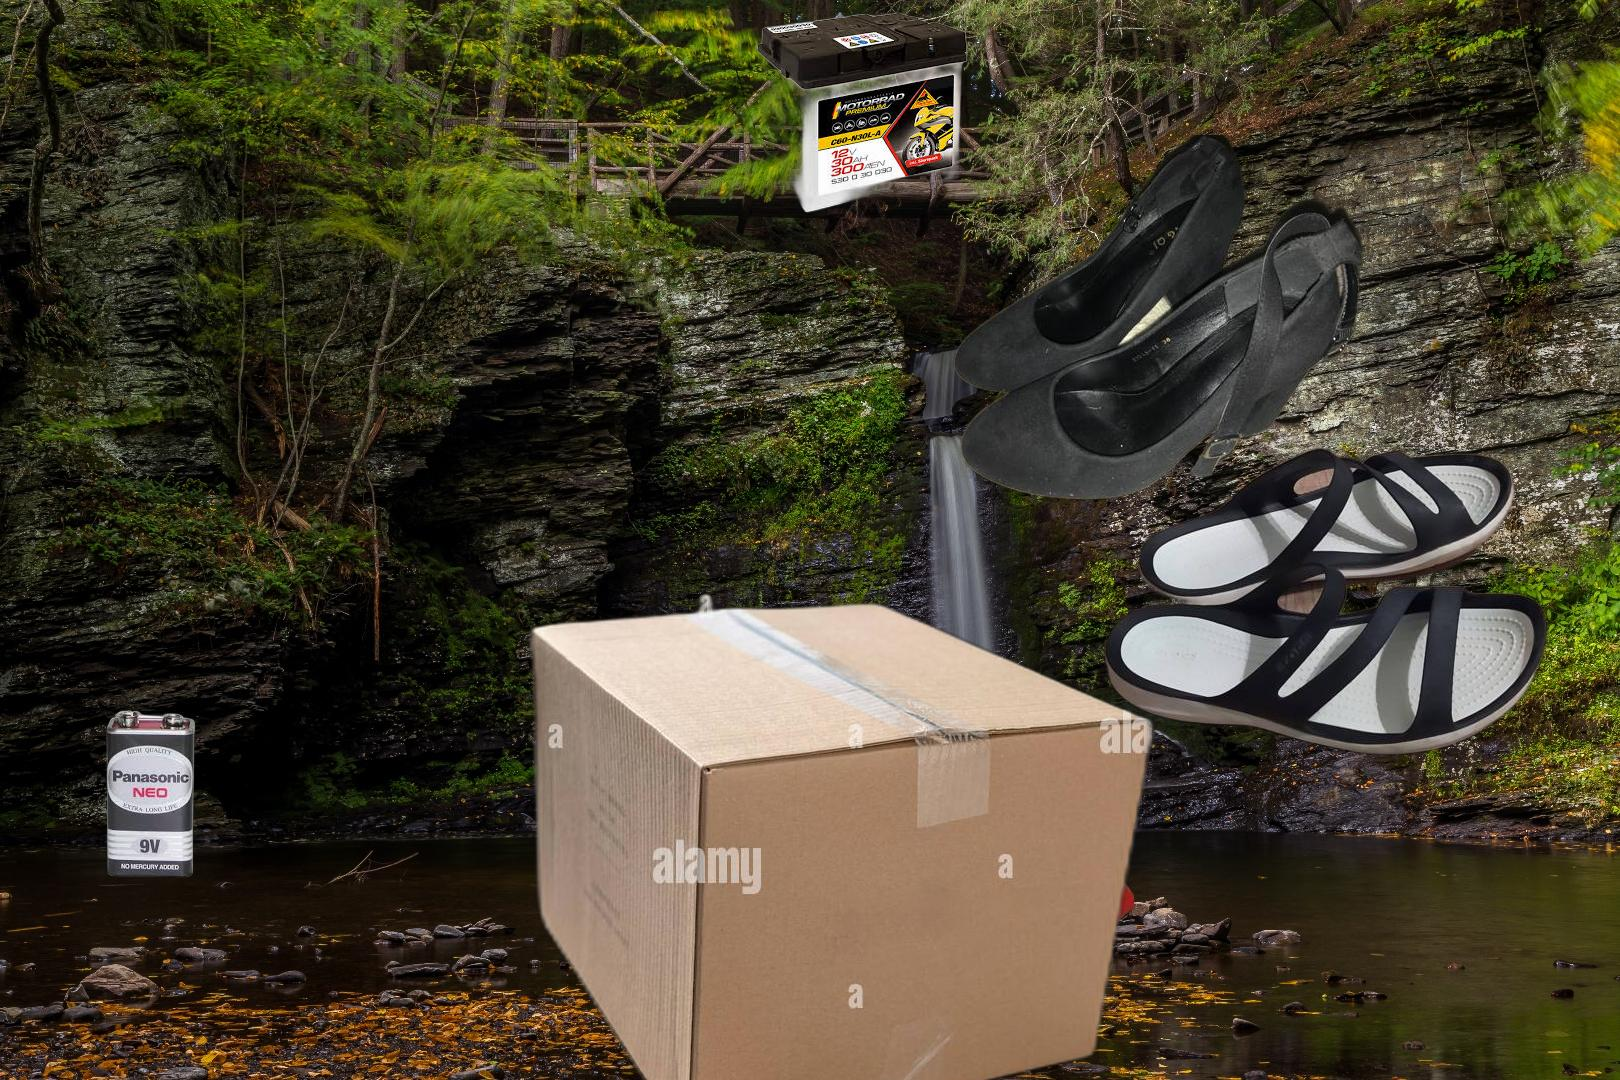battery: (755, 8, 969, 215), (104, 708, 198, 880)
clothes: (714, 771, 1134, 1045)
shoes: (949, 135, 1368, 503), (1097, 446, 1555, 759), (876, 700, 1043, 783)
trashbox-cardboard: (516, 587, 1203, 1080)
